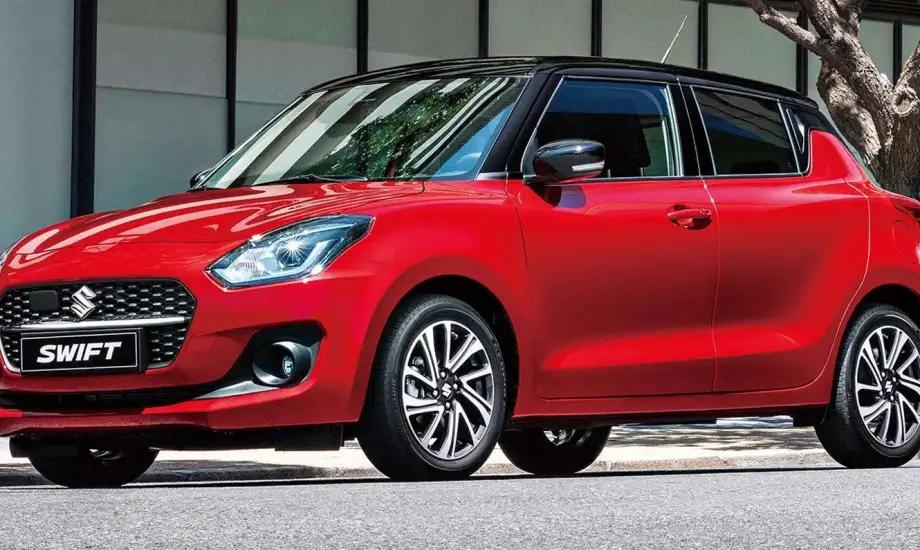suzuki: (67, 282, 102, 325)
